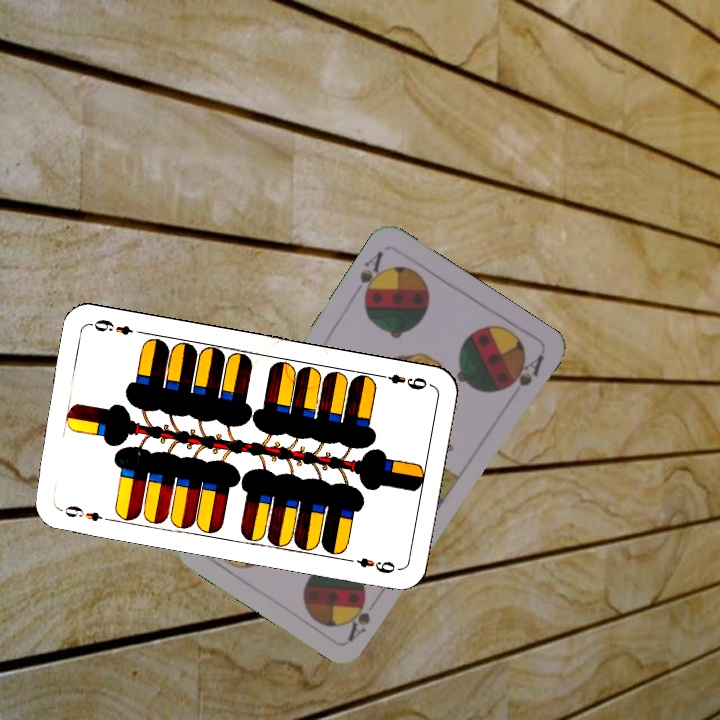E9: (55, 501, 114, 524), (374, 369, 430, 393)
SA: (355, 246, 390, 305), (344, 600, 373, 643)
